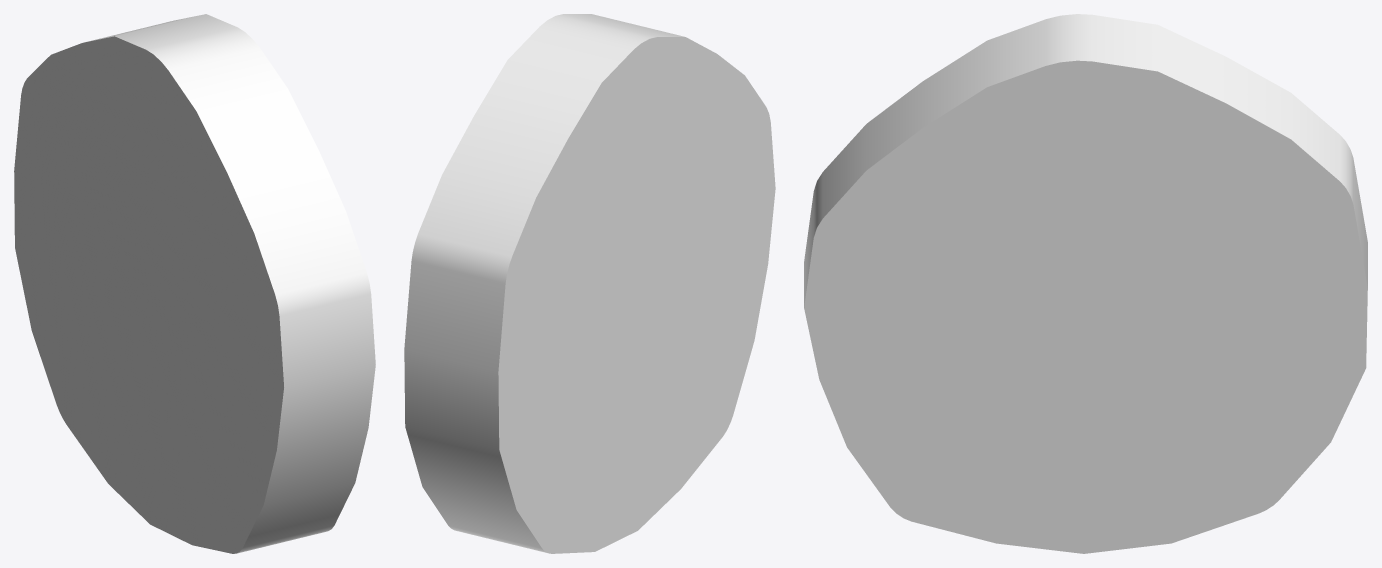
File: middle_banana.fbx
3 views of the same model, side by side, from view 1: azimuth 30°, elevation 25°; view 2: azimuth 150°, elevation 25°; view 3: azimuth 270°, elevation 25° (orthographic). The views are drawn at different scales.
Parts seen in each view (by area): view 1: middle; view 2: middle; view 3: middle.
Part boxes in pixels (x1,y1,x2,y2): middle: (14,14,375,553); middle: (404,14,775,553); middle: (804,14,1367,553).
Size of the model in its own units: 17.16 by 84.5 by 87.52.
